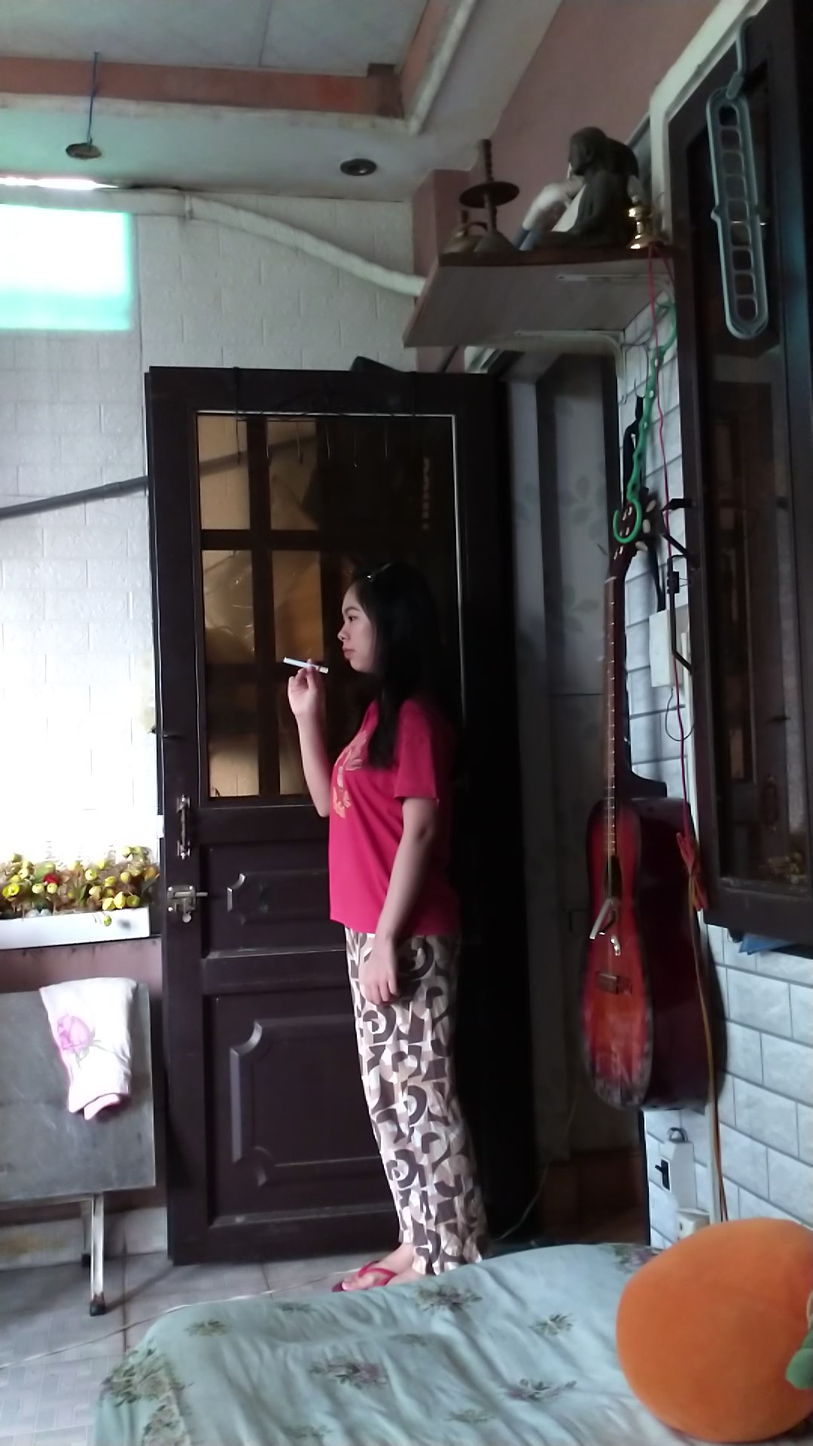cigarette: (279, 653, 330, 676)
person: (287, 549, 466, 1287)
